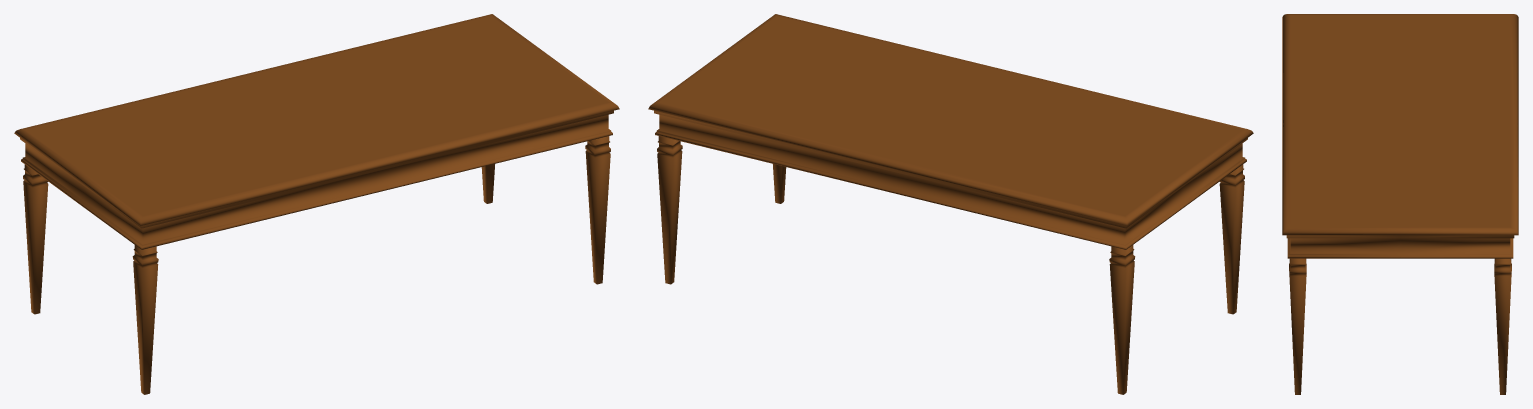
File: S_TableBasse.glb
The picture shows the model from 3 angles, left to right: view 1: azimuth 30°, elevation 25°; view 2: azimuth 150°, elevation 25°; view 3: azimuth 270°, elevation 25°; orthographic projection. The views are drawn at different scales.
Visible parts, largest first — view 1: S_TableBasse_low; view 2: S_TableBasse_low; view 3: S_TableBasse_low.
Boxes of the visible parts, <box> form: S_TableBasse_low: <box>14,14,619,394</box>; S_TableBasse_low: <box>648,14,1253,394</box>; S_TableBasse_low: <box>1282,14,1518,394</box>.
Size of the model in its own units: 0.891 by 0.3225 by 0.4079.
